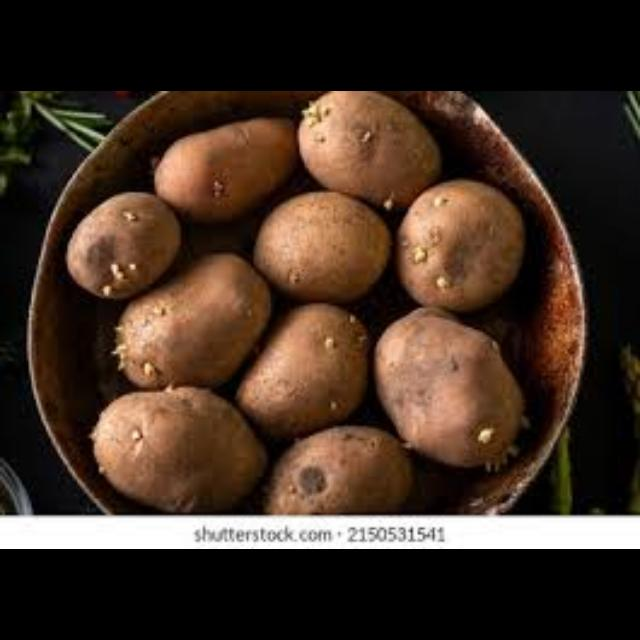Diseased-fungal potato: (237, 430, 419, 518)
Sprouted potato: (369, 308, 531, 480), (109, 254, 278, 390), (79, 384, 264, 506), (275, 91, 445, 203), (238, 296, 380, 430), (392, 175, 530, 311), (236, 185, 396, 299), (55, 182, 187, 304), (136, 120, 292, 216)
